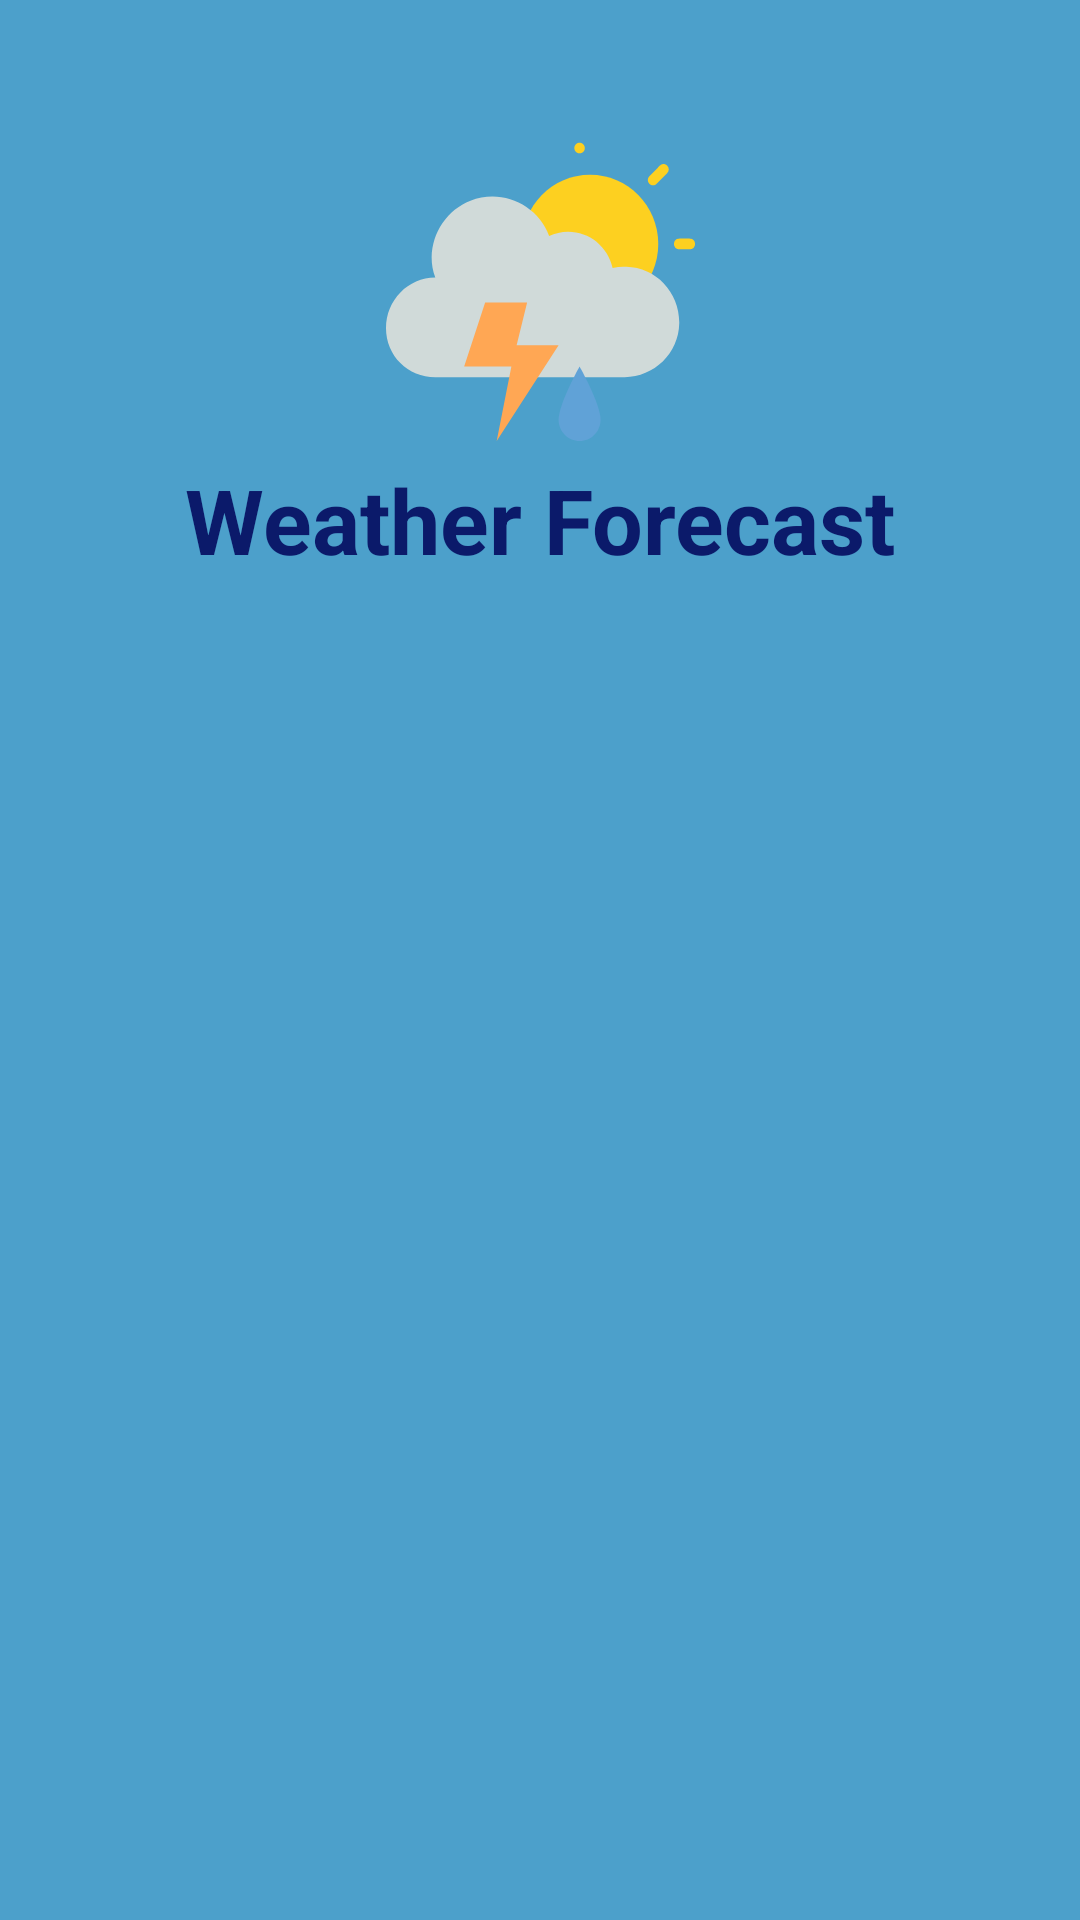

Where icons sit on this 1080 × 1920 app screen, as region(x1, y1, x2, y2):
storm: region(386, 142, 695, 441)
